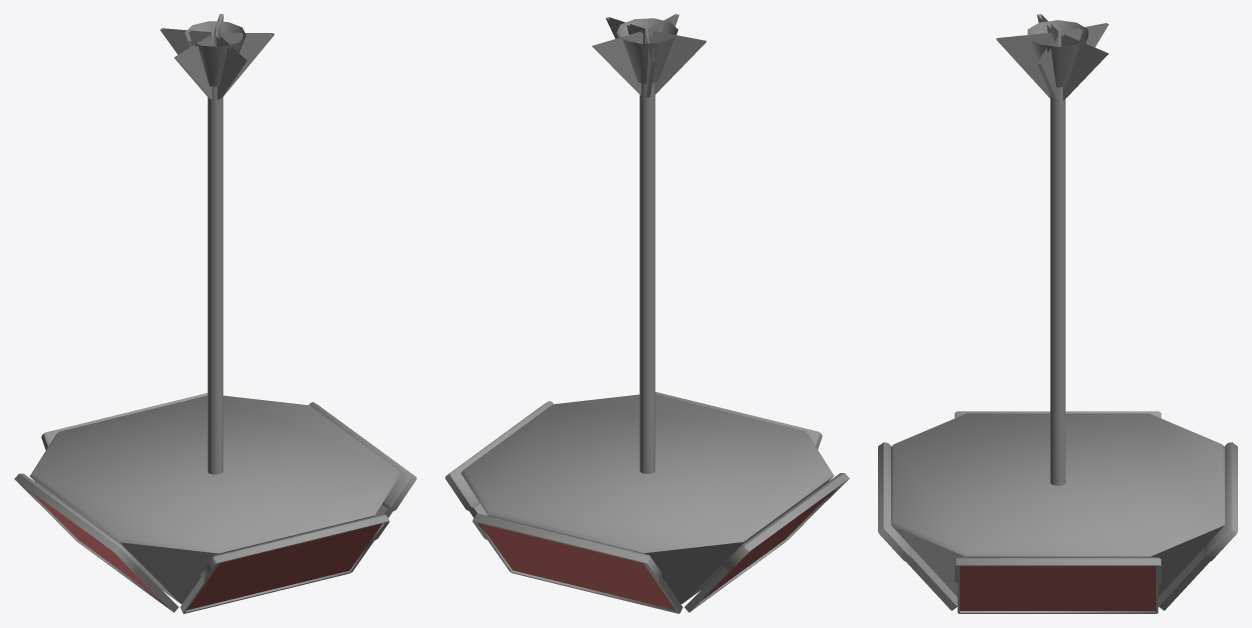
Rendered from Rooftop_Screen.FBX.
The picture shows the model from 3 angles, left to right: view 1: azimuth 30°, elevation 25°; view 2: azimuth 150°, elevation 25°; view 3: azimuth 270°, elevation 25°; orthographic projection. The views are drawn at different scales.
Visible parts, largest first — view 1: Big_Screen_Frame_1, Big_Screen_Frame_2, Big_Screen_1, Big_Screen_4; view 2: Big_Screen_Frame_1, Big_Screen_Frame_2, Big_Screen_3, Big_Screen_4; view 3: Big_Screen_Frame_1, Big_Screen_Frame_2, Big_Screen_2.
Part boxes in pixels (x1,y1,x2,y2): Big_Screen_Frame_1: (14,393,416,613); Big_Screen_Frame_2: (160,14,274,474); Big_Screen_1: (187,524,381,610); Big_Screen_4: (29,490,161,600); Big_Screen_Frame_1: (445,392,849,613); Big_Screen_Frame_2: (592,14,706,473); Big_Screen_3: (480,523,675,610); Big_Screen_4: (700,490,833,601); Big_Screen_Frame_1: (878,411,1237,613); Big_Screen_Frame_2: (996,14,1108,485); Big_Screen_2: (960,566,1155,610).
Bounding box in the file's own units: 882 × 882 × 1450.
